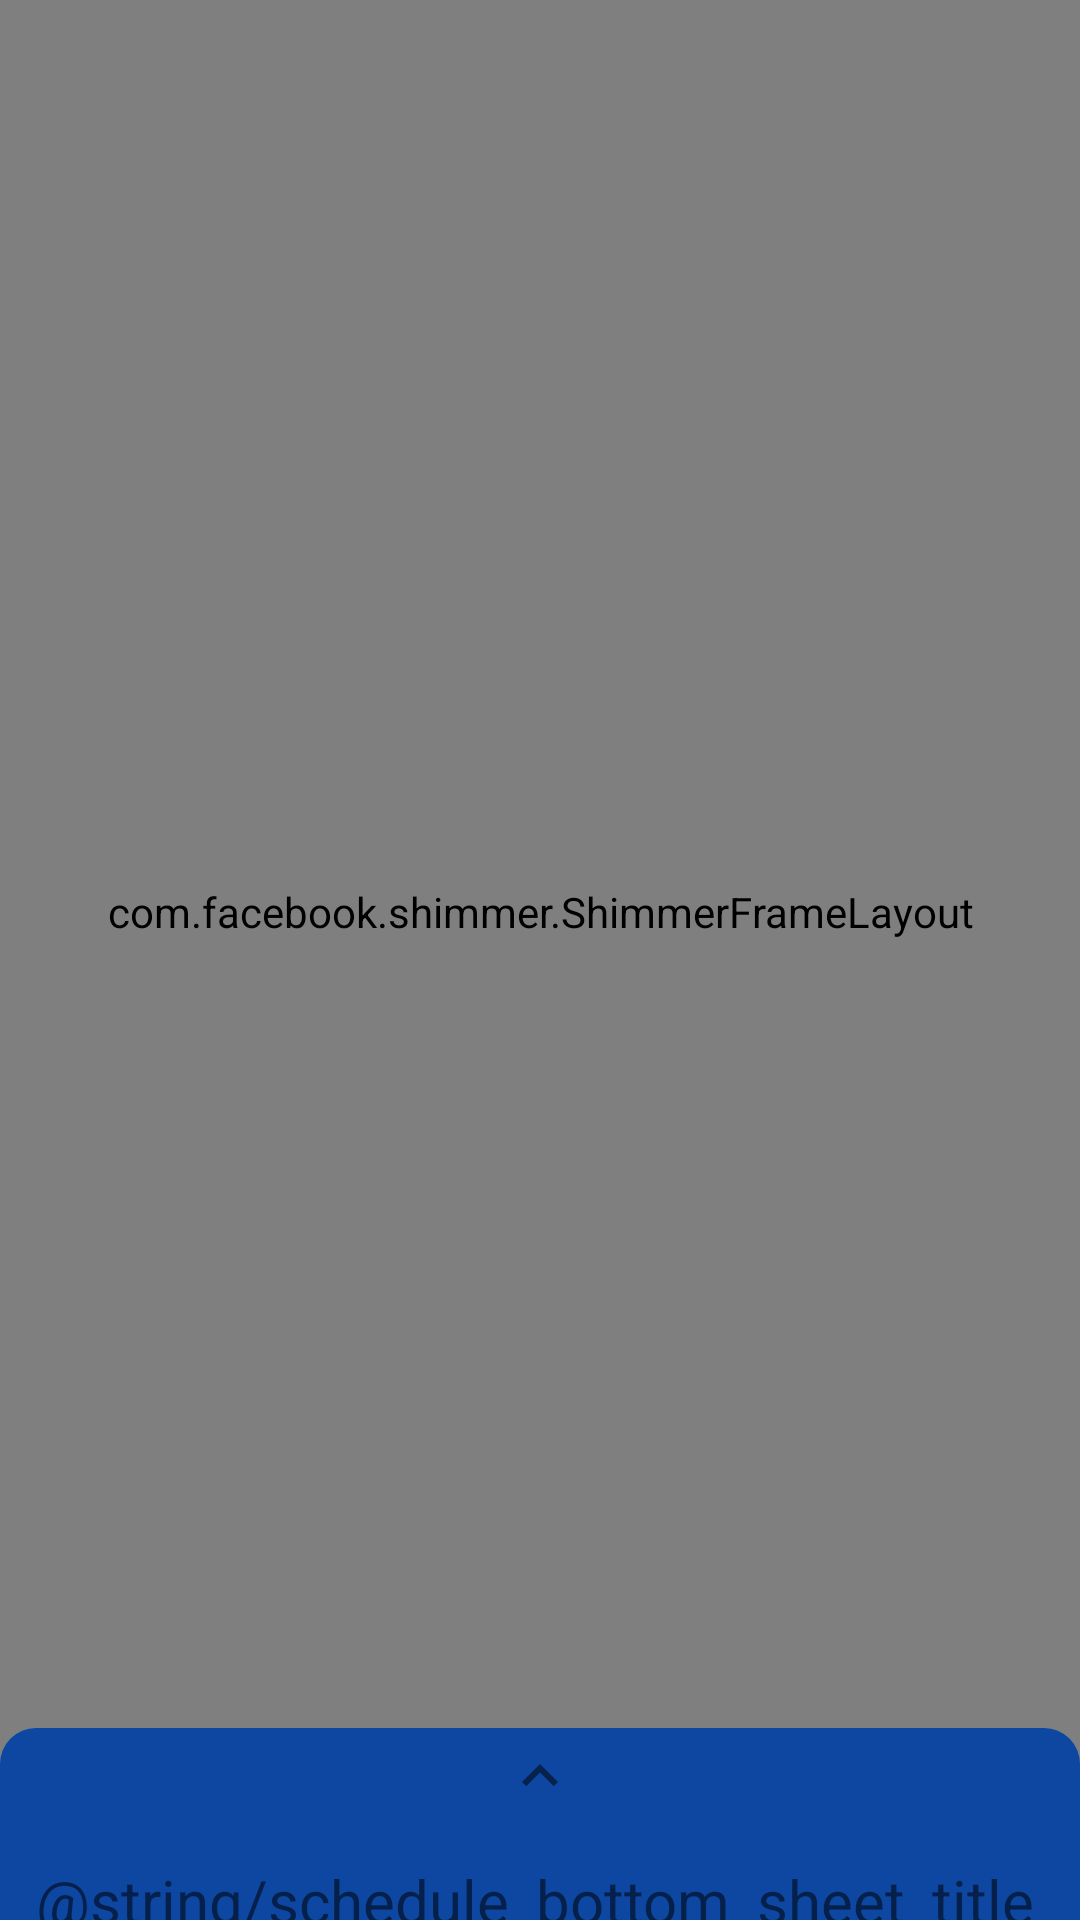

Icon click points for this 1080*1920 phone screenshot, format point (x, y):
arrow up: point (540, 1775)
